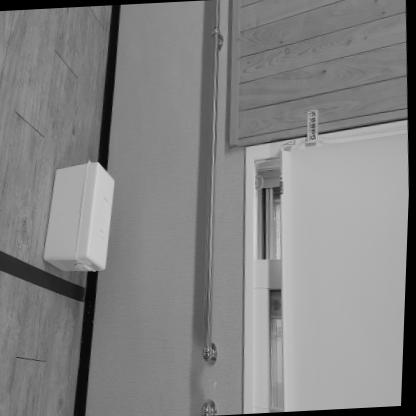DDL: (37, 159, 119, 272)
